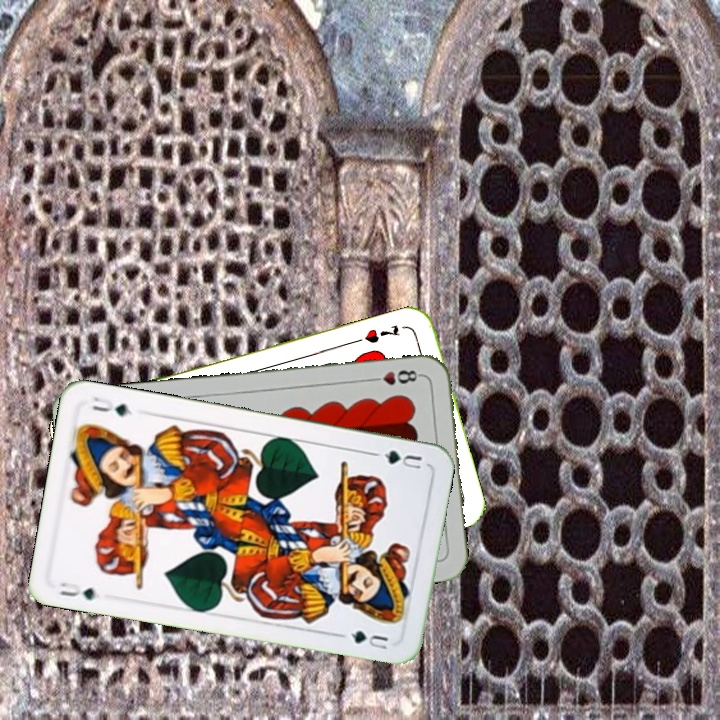GU: (370, 446, 424, 472), (56, 578, 98, 602)
H7: (360, 321, 402, 346)
H8: (365, 366, 424, 388)
